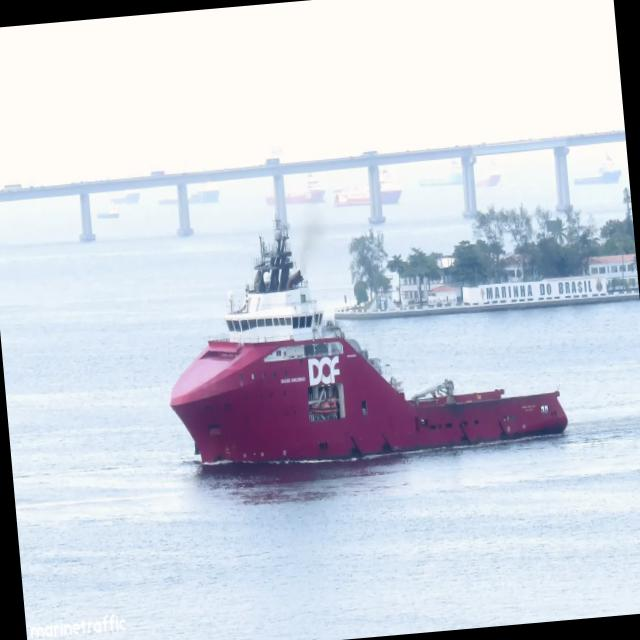Offshore: (170, 221, 567, 464)
